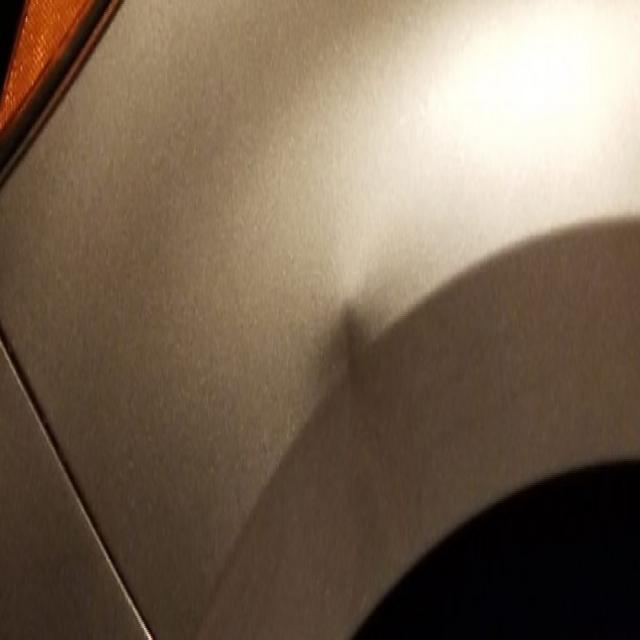dents: (300, 260, 388, 441)
